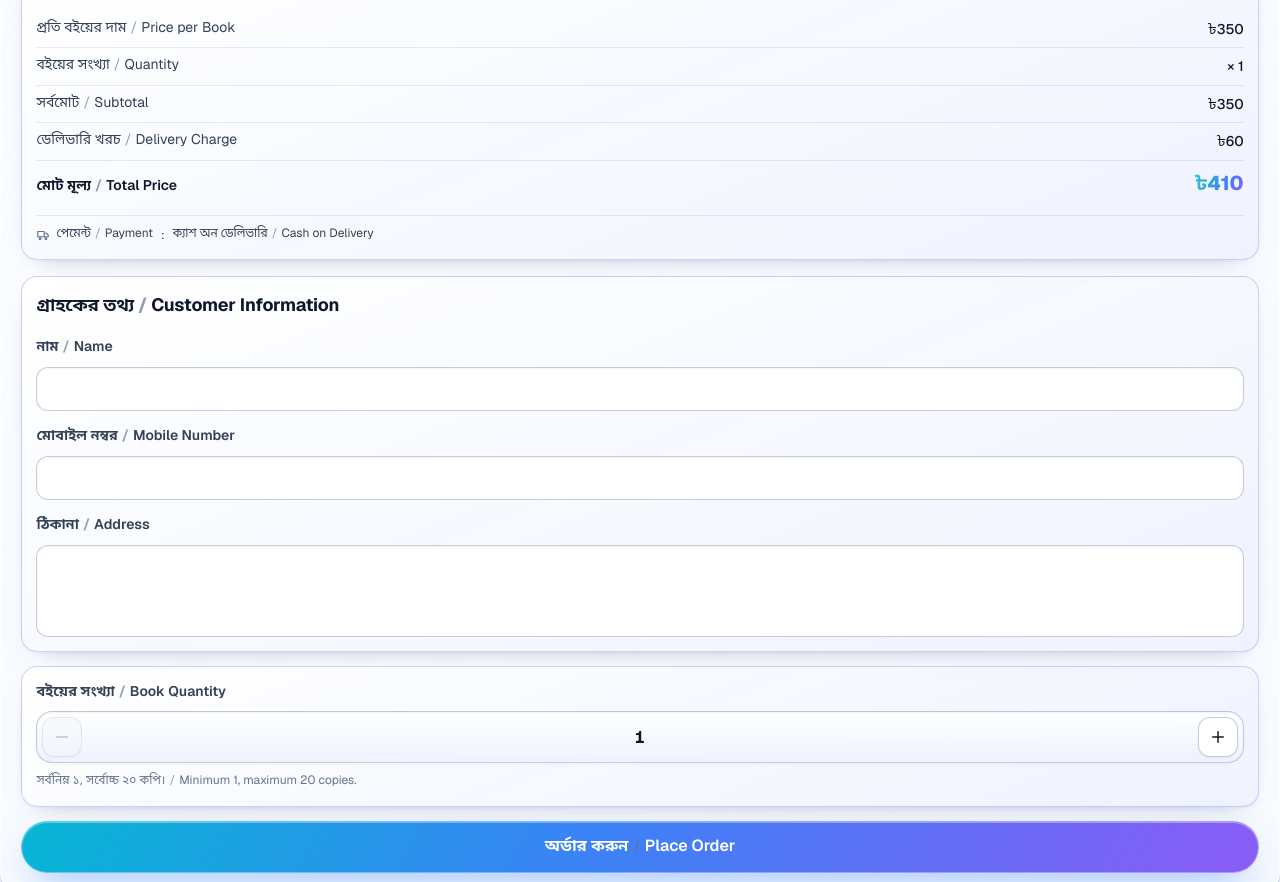
Scenario: OrderForm › validates required fields before submitting
The image size is (1280, 882).
(page scrolled)
Click the button "অর্ডার করুন/Place Order" at [640, 848], box x1=21 y1=822 x2=1259 y2=874
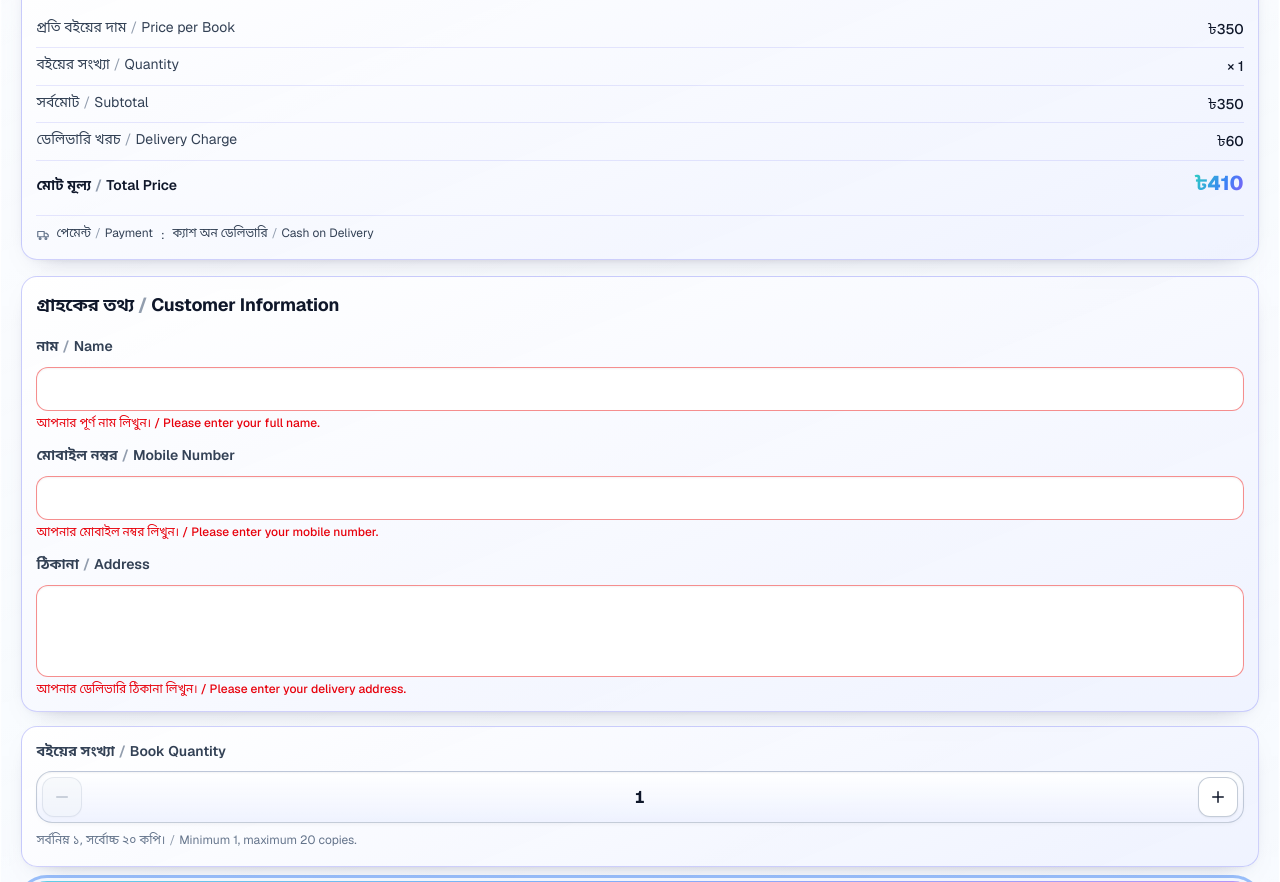
Now the text "আপনার পূর্ণ নাম লিখুন। / Please enter your full name." is shown, box x1=36 y1=416 x2=320 y2=432
Now the text "আপনার মোবাইল নম্বর লিখুন। / Please enter your mobile number." is shown, box x1=36 y1=524 x2=378 y2=540
Now the text "enter your delivery address" is shown, box x1=36 y1=681 x2=406 y2=697
